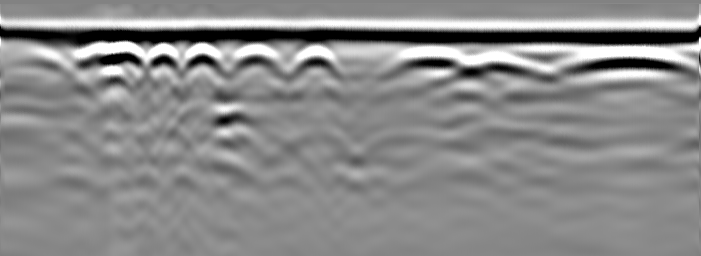steel: (564, 52, 690, 77), (74, 43, 141, 69), (471, 52, 534, 77), (290, 43, 340, 72), (393, 47, 460, 68), (232, 44, 284, 68), (181, 44, 222, 69), (147, 45, 181, 68)
